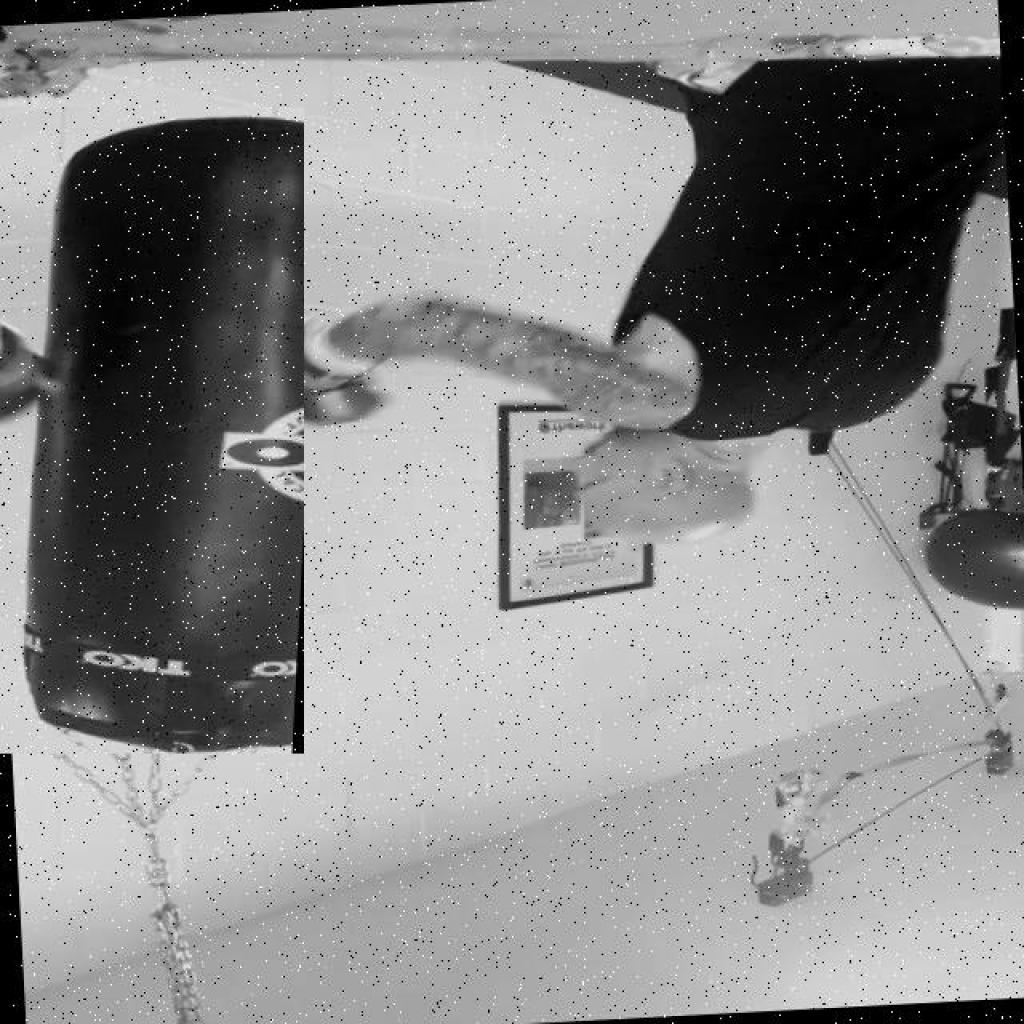bag: (0, 107, 304, 754)
hook: (250, 232, 963, 589)
